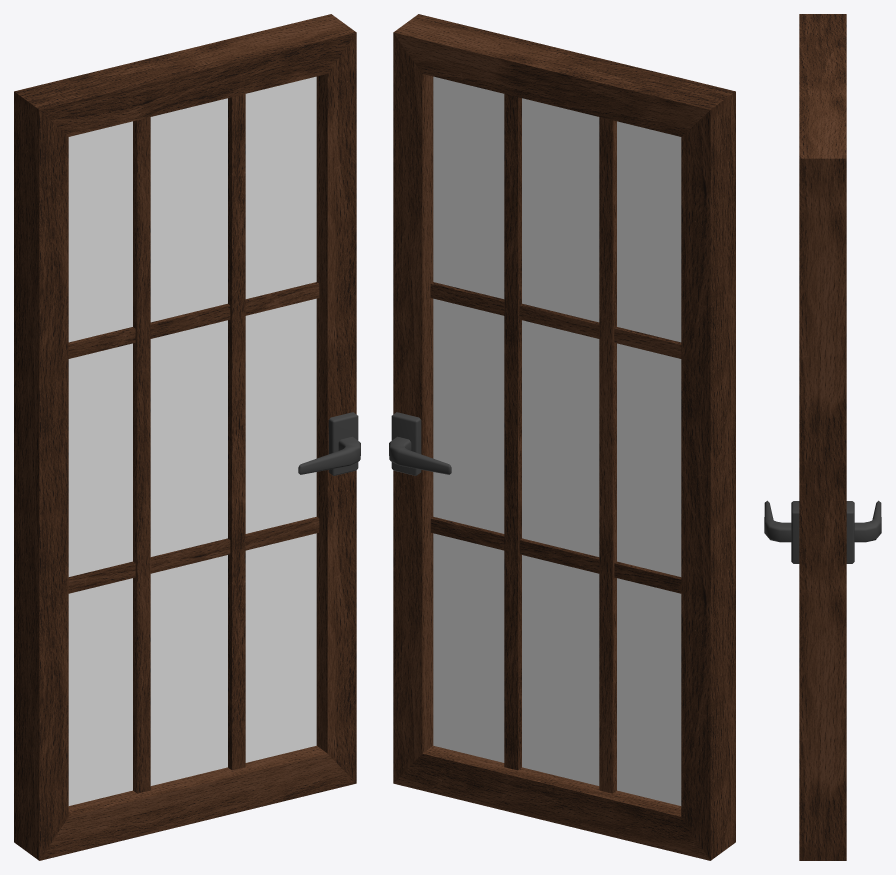
Rendered from door_034.fbx.
3 renders of one model, left to right at view 1: azimuth 30°, elevation 25°; view 2: azimuth 150°, elevation 25°; view 3: azimuth 270°, elevation 25°, orthographic. The views are drawn at different scales.
Parts seen in each view (by area): view 1: door_034; view 2: door_034; view 3: door_034.
Part boxes in pixels (x1,y1,x2,y2): door_034: [14, 14, 360, 860]; door_034: [389, 14, 735, 860]; door_034: [764, 14, 881, 860].
Bounding box in the file's own units: 95.15 × 32.58 × 215.
